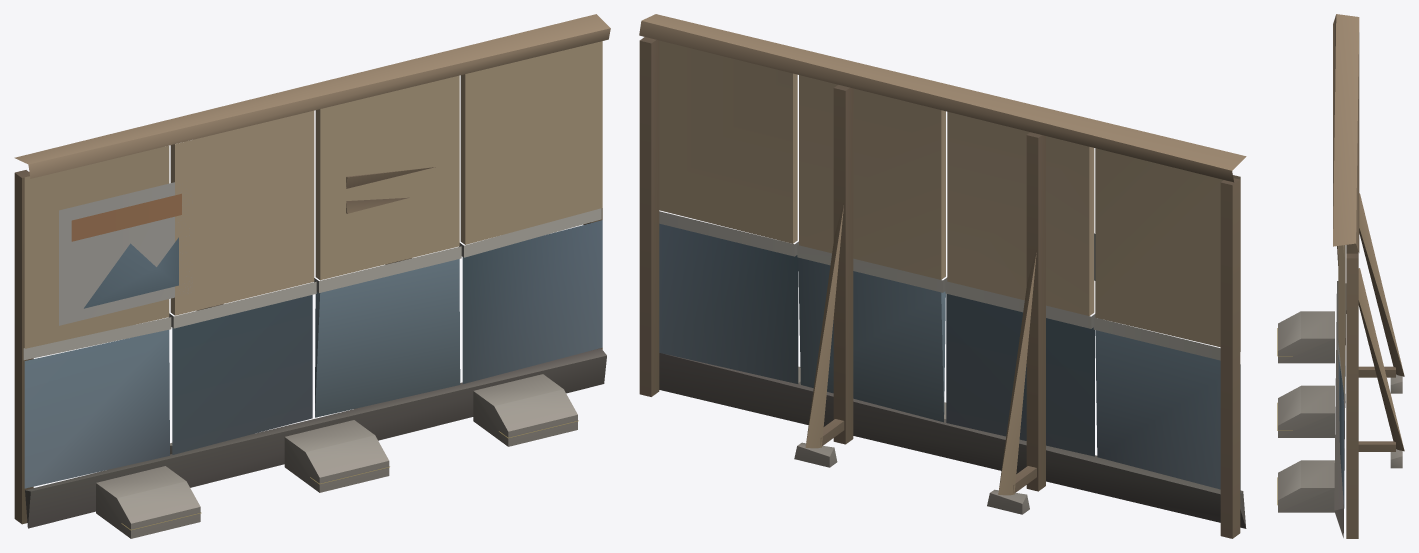
The model's file is hoarding.lod1.glb.
3 renders of one model, left to right at view 1: azimuth 30°, elevation 25°; view 2: azimuth 150°, elevation 25°; view 3: azimuth 270°, elevation 25°, orthographic. The views are drawn at different scales.
Size of the model in its own units: 4 by 2.4 by 0.9391.
